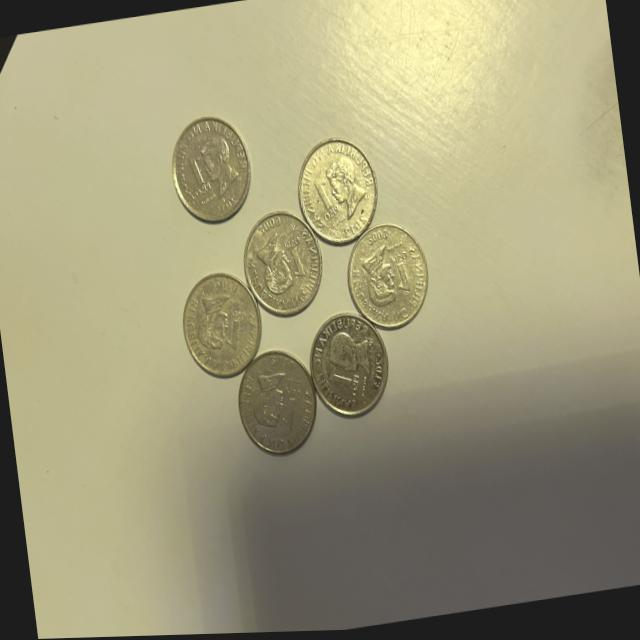1_Old_Front: (179, 147, 217, 215), (322, 357, 371, 409), (304, 175, 342, 231), (273, 380, 307, 439), (217, 304, 253, 359), (279, 233, 311, 287), (387, 252, 418, 302)
